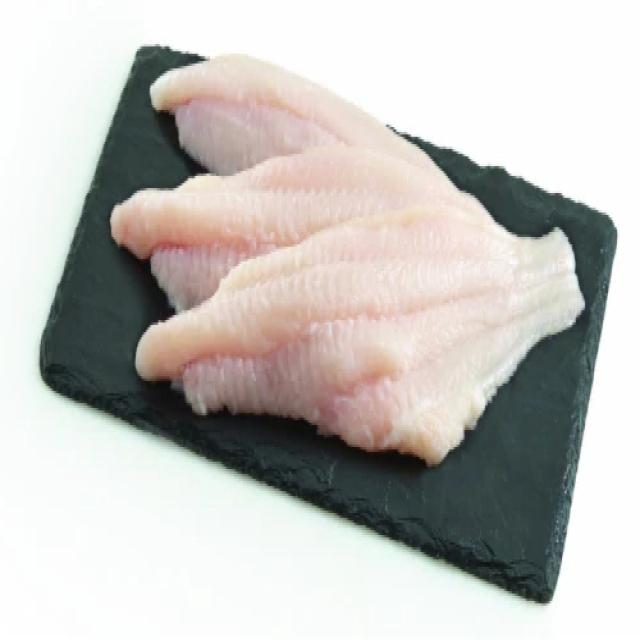Catfish: (107, 39, 589, 471)
